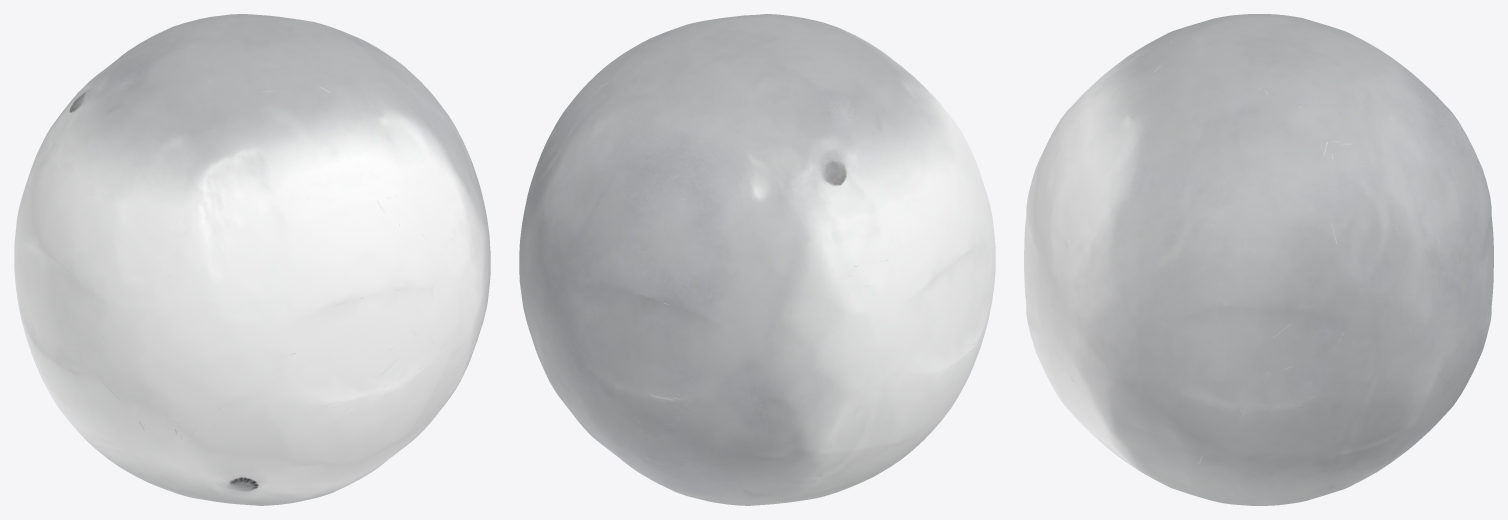
File: token.glb
The picture shows the model from 3 angles, left to right: view 1: azimuth 30°, elevation 25°; view 2: azimuth 150°, elevation 25°; view 3: azimuth 270°, elevation 25°; orthographic projection.
Visible parts, largest first — view 1: Mesh1.0; view 2: Mesh1.0; view 3: Mesh1.0.
Part boxes in pixels (x1,y1,x2,y2): Mesh1.0: [14, 14, 490, 505]; Mesh1.0: [519, 14, 995, 505]; Mesh1.0: [1024, 14, 1493, 505].
Size of the model in its own units: 1.86 by 1.91 by 1.86.
Materials: 1 (1 with a texture image).
